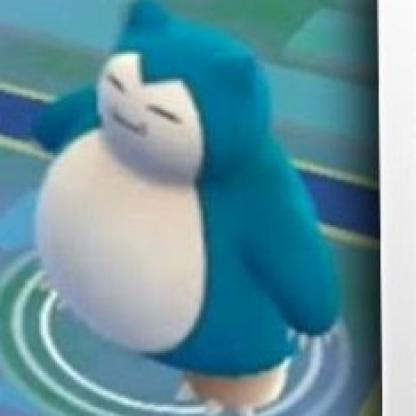Snorlax: (1, 1, 344, 415)
